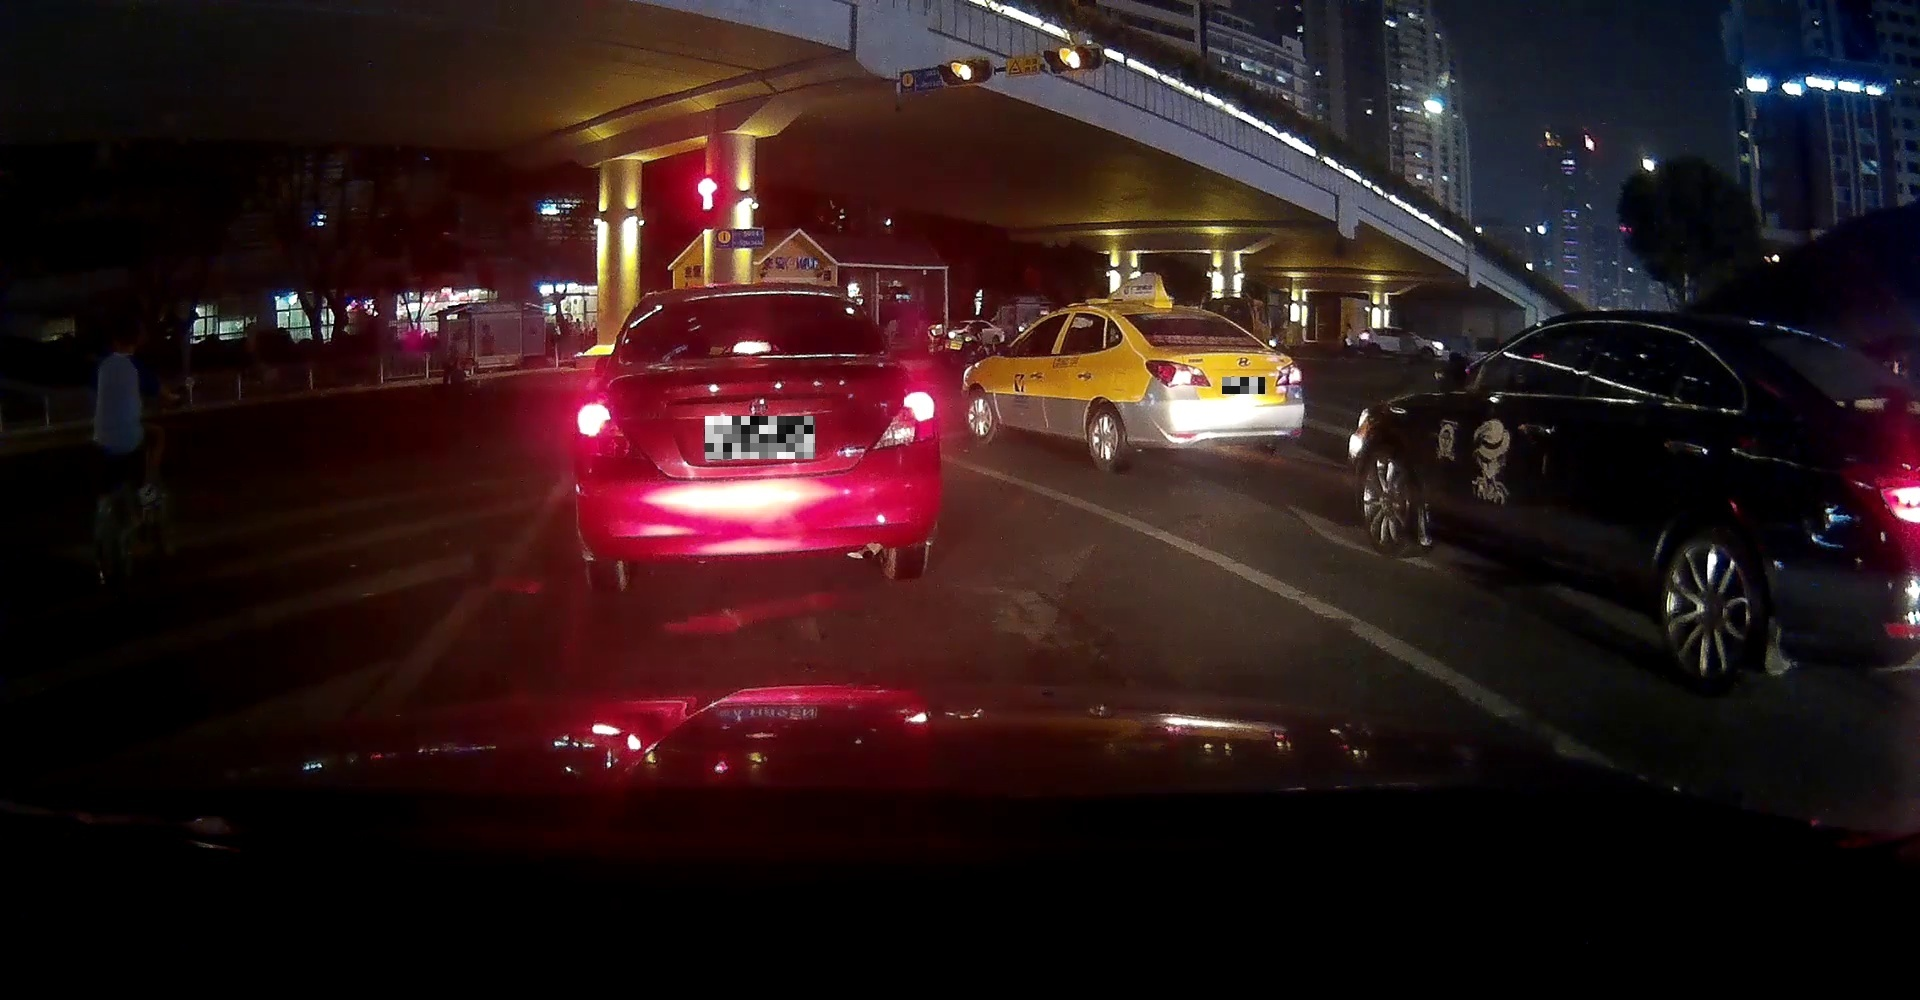L_light: (578, 401, 648, 463), (1145, 359, 1211, 388)
R_light: (871, 391, 937, 447), (1276, 360, 1303, 386)
T_light: (724, 341, 782, 355), (1205, 339, 1229, 344)
night-brake: (571, 280, 943, 588)
night-no: (1116, 298, 1305, 471)
plate_1: (705, 416, 815, 459)
plate_2: (1222, 377, 1265, 393)
